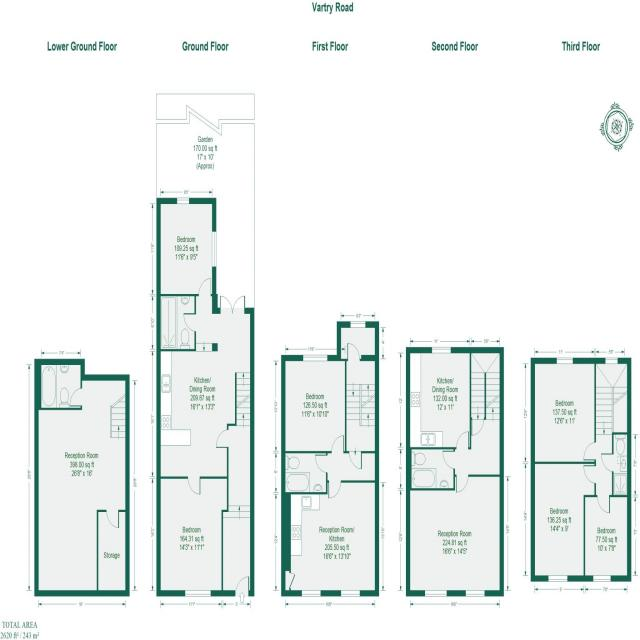DOOR: (234, 576, 249, 596), (314, 454, 328, 474), (215, 429, 229, 449), (583, 464, 596, 485), (187, 476, 201, 495), (106, 510, 120, 529), (597, 494, 610, 514), (601, 453, 614, 473), (442, 450, 455, 470), (183, 312, 196, 332), (69, 387, 82, 407), (583, 442, 596, 461), (456, 474, 469, 493), (456, 431, 469, 450), (328, 480, 341, 499), (331, 435, 344, 454), (347, 342, 360, 361), (198, 278, 211, 297)
DOUBLE DOOR: (218, 294, 247, 314)
ROOM: (34, 374, 130, 597), (406, 474, 504, 597), (281, 480, 379, 597), (156, 476, 228, 596), (530, 461, 596, 582), (531, 357, 596, 464), (406, 347, 472, 450), (281, 355, 347, 453), (156, 198, 216, 296), (583, 495, 631, 582)
WINDOW: (303, 354, 328, 362), (184, 590, 211, 597), (212, 231, 217, 268), (424, 590, 447, 597), (548, 575, 568, 582), (465, 590, 485, 597), (301, 590, 321, 597), (432, 347, 451, 354), (341, 590, 360, 597), (593, 575, 611, 582), (556, 357, 573, 364), (350, 321, 366, 328), (177, 197, 189, 204), (605, 358, 618, 364)
